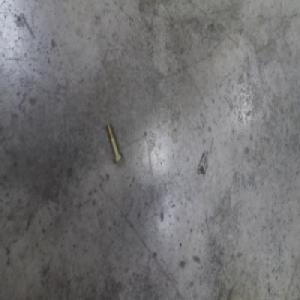Bolt: (105, 123, 123, 166)
